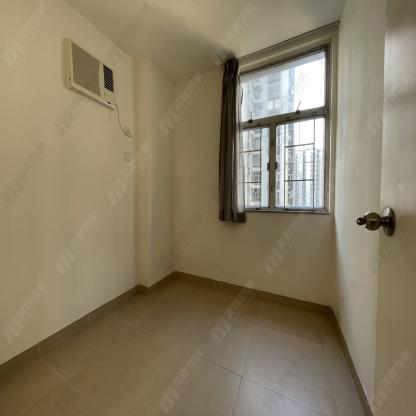AC: (68, 38, 115, 110)
